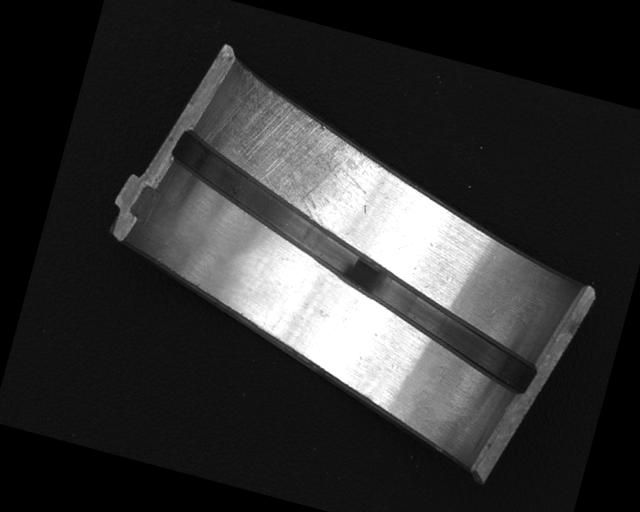gap: (135, 127, 574, 398)
scratch: (199, 70, 387, 236)
